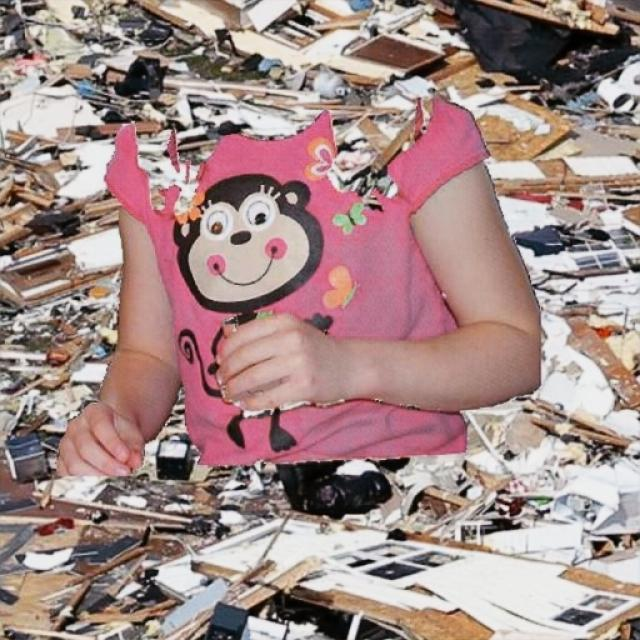Person in Rubble: (55, 97, 540, 475)
